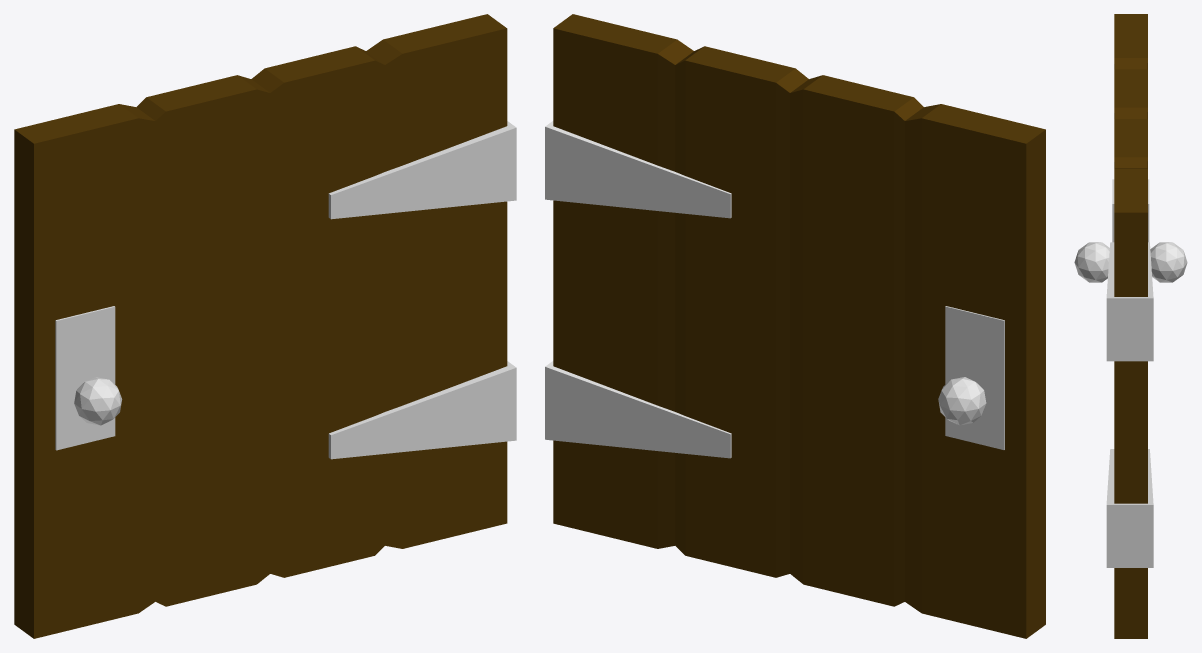
Rendered from Door.fbx.
The picture shows the model from 3 angles, left to right: view 1: azimuth 30°, elevation 25°; view 2: azimuth 150°, elevation 25°; view 3: azimuth 270°, elevation 25°; orthographic projection. The views are drawn at different scales.
Visible parts, largest first — view 1: Door, Door.001; view 2: Door, Door.001; view 3: Door, Door.001.
Boxes of the visible parts, x1,y1,x2,y2 form: Door: (14, 14, 516, 638); Door.001: (74, 377, 122, 425); Door: (545, 14, 1045, 638); Door.001: (938, 377, 986, 425); Door: (1106, 14, 1153, 638); Door.001: (1074, 242, 1187, 282).
Bounding box in the file's own units: 2.02 × 2 × 0.481.
